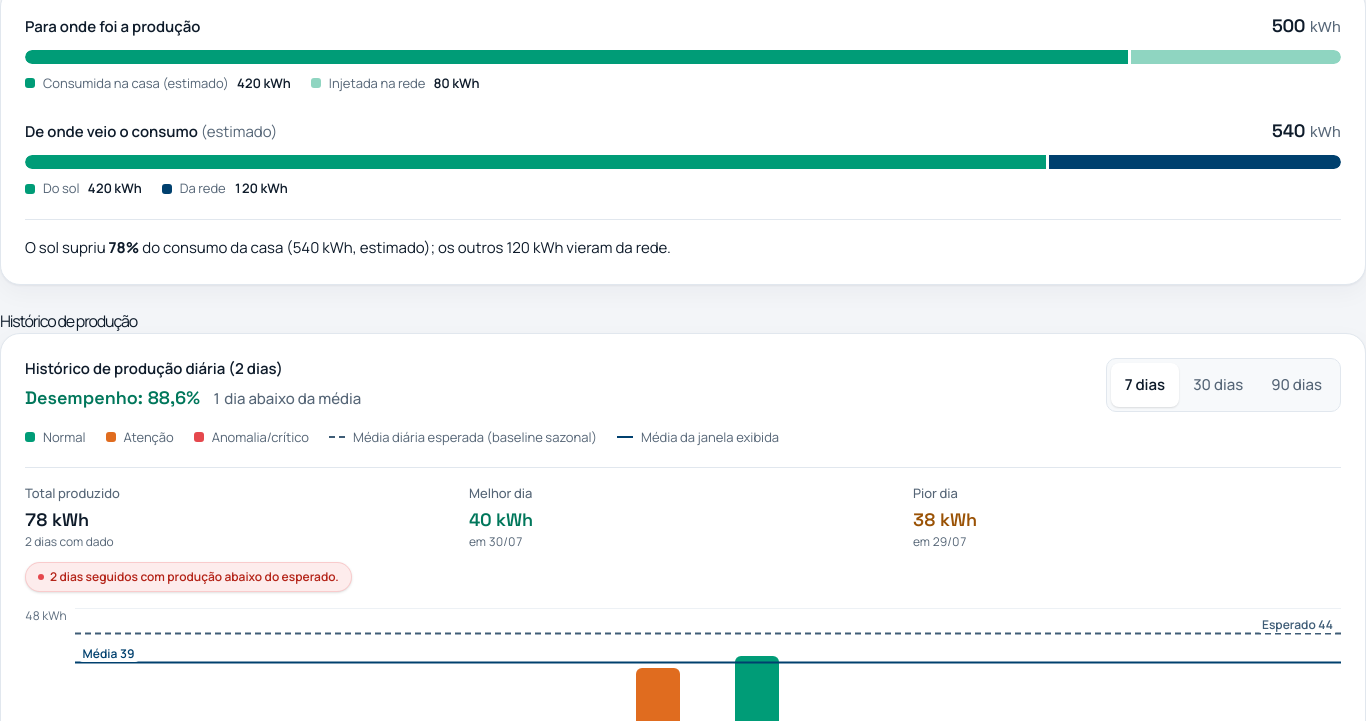
it: ProductionPage — gráfico diário e leitura do período juntos › o seletor do gráfico muda também a leitura do período (um recorte só)
(page scrolled)
What coordinates should you click on to do the following:
click the button "30 dias"
I would click on:
 (1218, 385)
Its box is x1=1179 y1=363 x2=1257 y2=407.
(page scrolled)
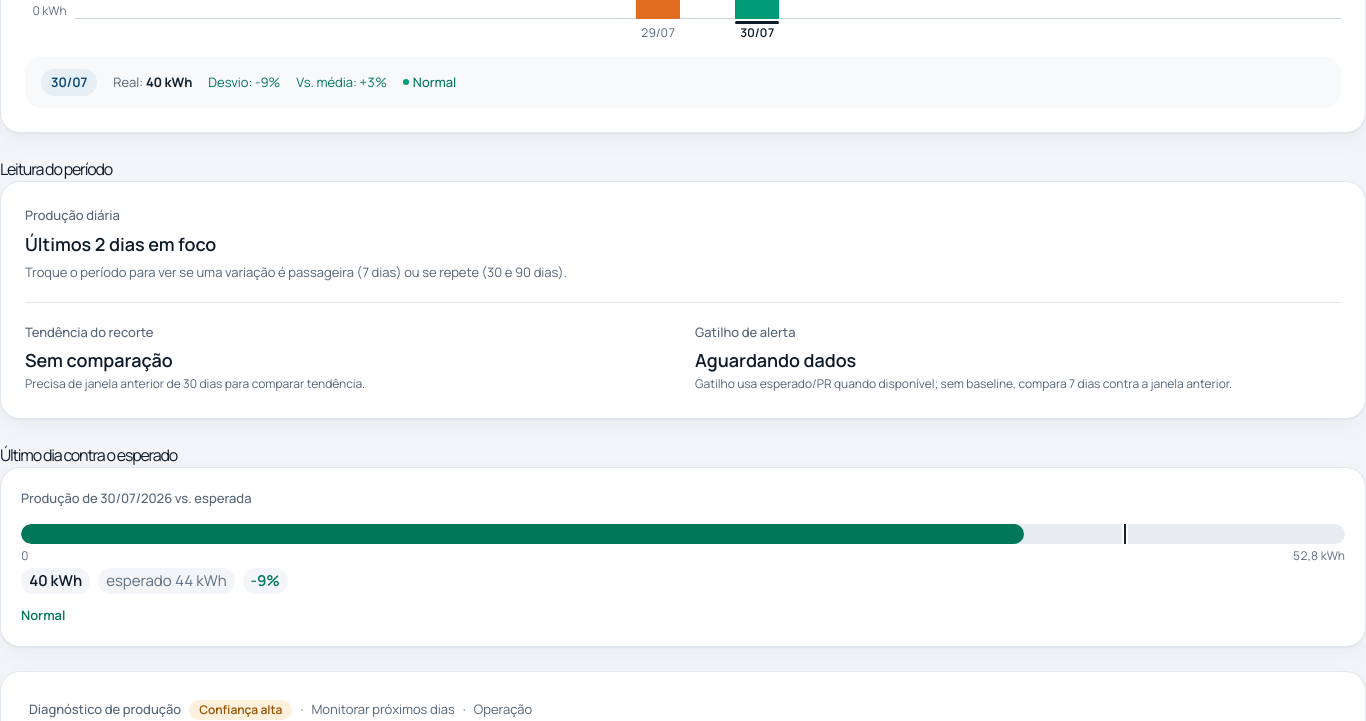
Expected: the heading "Últimos 2 dias em foco" is shown, x1=25 y1=232 x2=216 y2=256
Expected: the text "Precisa de janela anterior de 30 dias para comparar tendência." is shown, x1=25 y1=375 x2=365 y2=392
